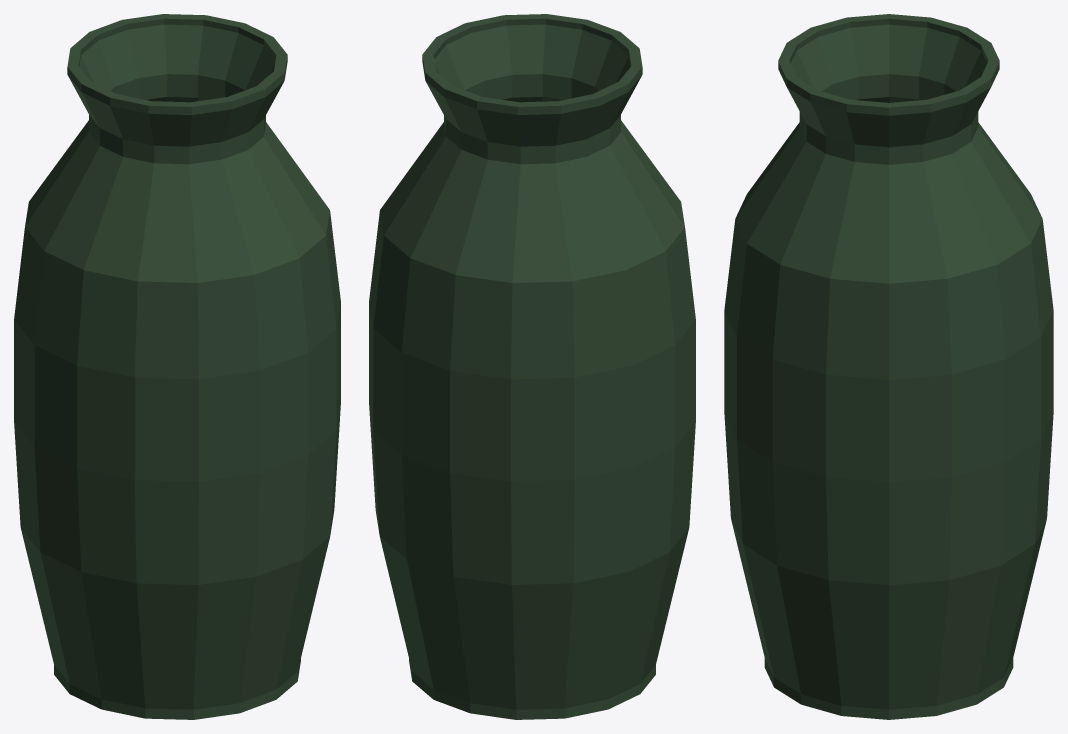
The model's file is HealingFlask.fbx.
The picture shows the model from 3 angles, left to right: view 1: azimuth 30°, elevation 25°; view 2: azimuth 150°, elevation 25°; view 3: azimuth 270°, elevation 25°; orthographic projection.
Parts seen in each view (by area): view 1: Flask; view 2: Flask; view 3: Flask.
Part boxes in pixels (x1,y1,x2,y2): Flask: [14, 14, 340, 719]; Flask: [369, 14, 695, 719]; Flask: [724, 14, 1053, 719].
Size of the model in its own units: 11.27 by 22.91 by 11.27.
